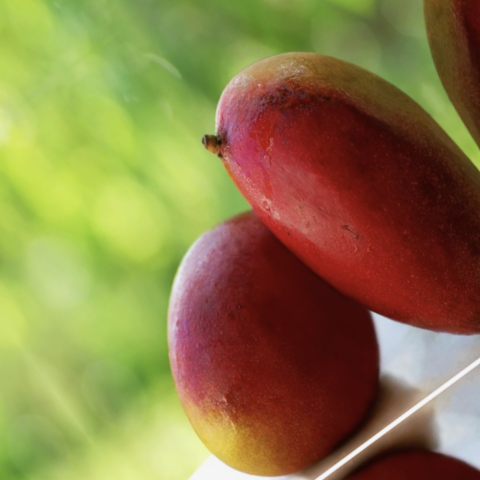mango: (159, 0, 480, 431), (84, 161, 454, 480)
